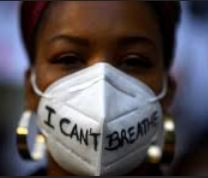with_facemask: (38, 76, 162, 178)
